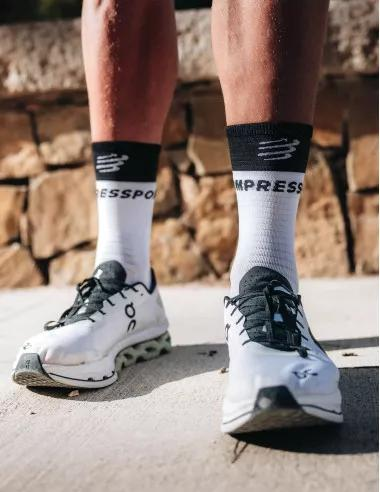OC_logo: (279, 357, 335, 398), (115, 293, 155, 340), (219, 319, 246, 346)
sock logo: (230, 121, 313, 295), (92, 143, 163, 285)
